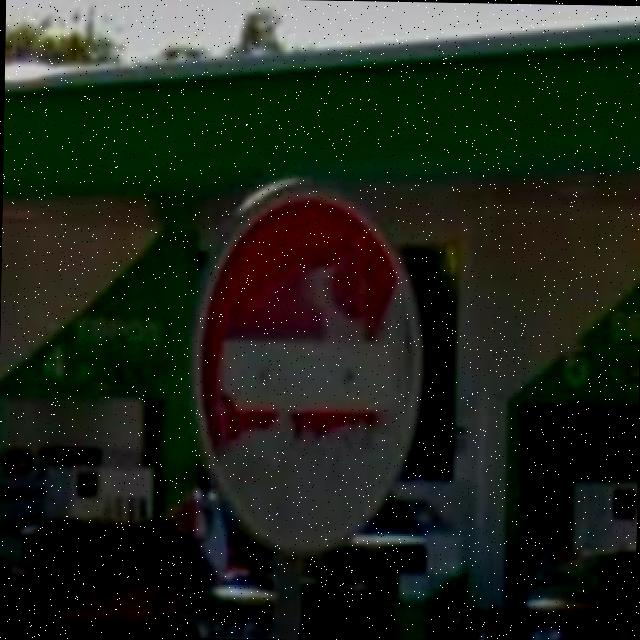Zakaz wjazdu: (190, 187, 426, 557)
